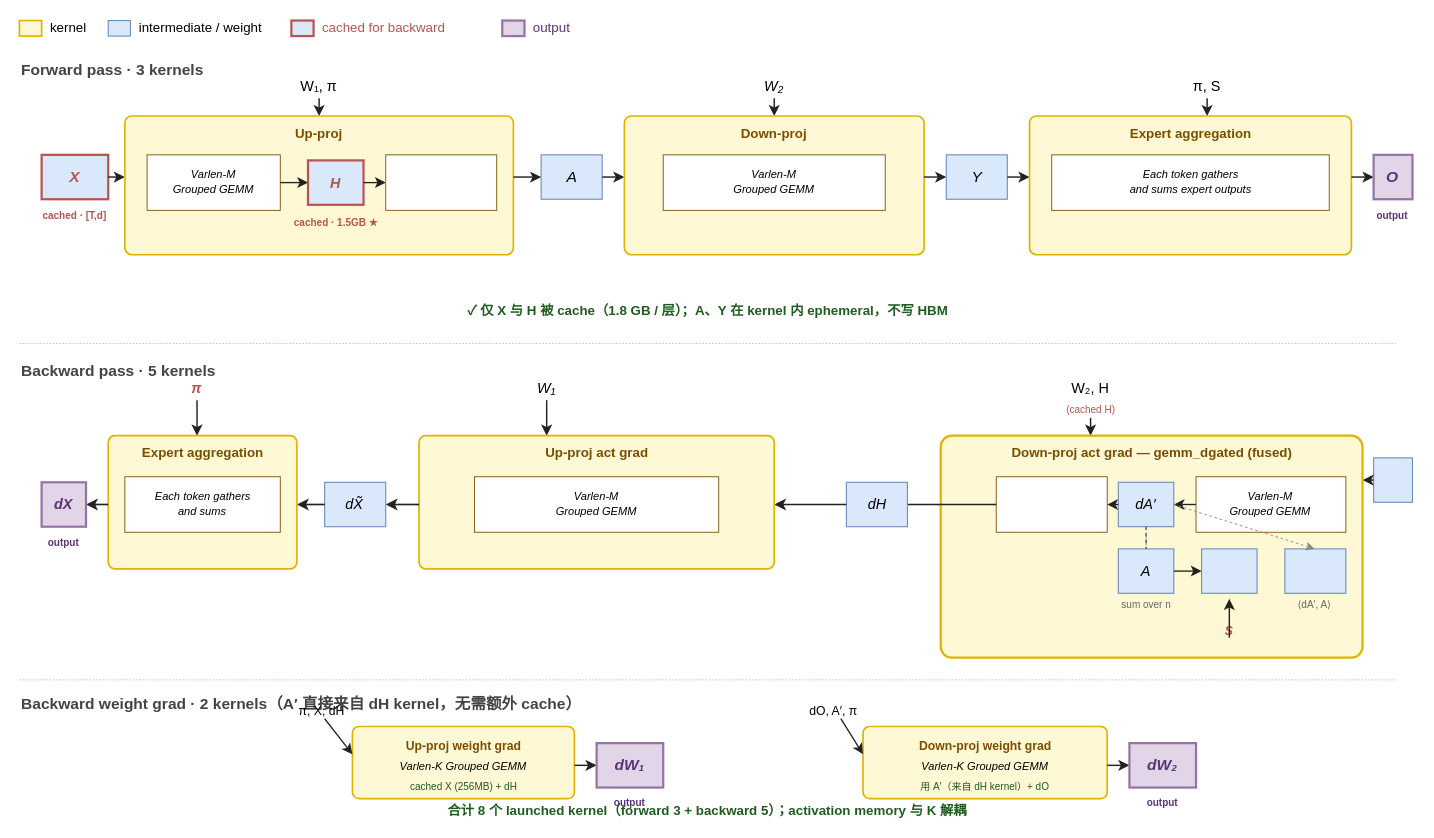
Some shapes in this 1434 by 838 pixel diagram are drawn without their labels. The centre of each missing label's shape, as x and y in pixels:
"Act func" goes at point (441, 182).
"A′" goes at point (1228, 570).
"dAct func" goes at point (1051, 504).
"dO" goes at point (1392, 479).
"dS" goes at point (1315, 570).
